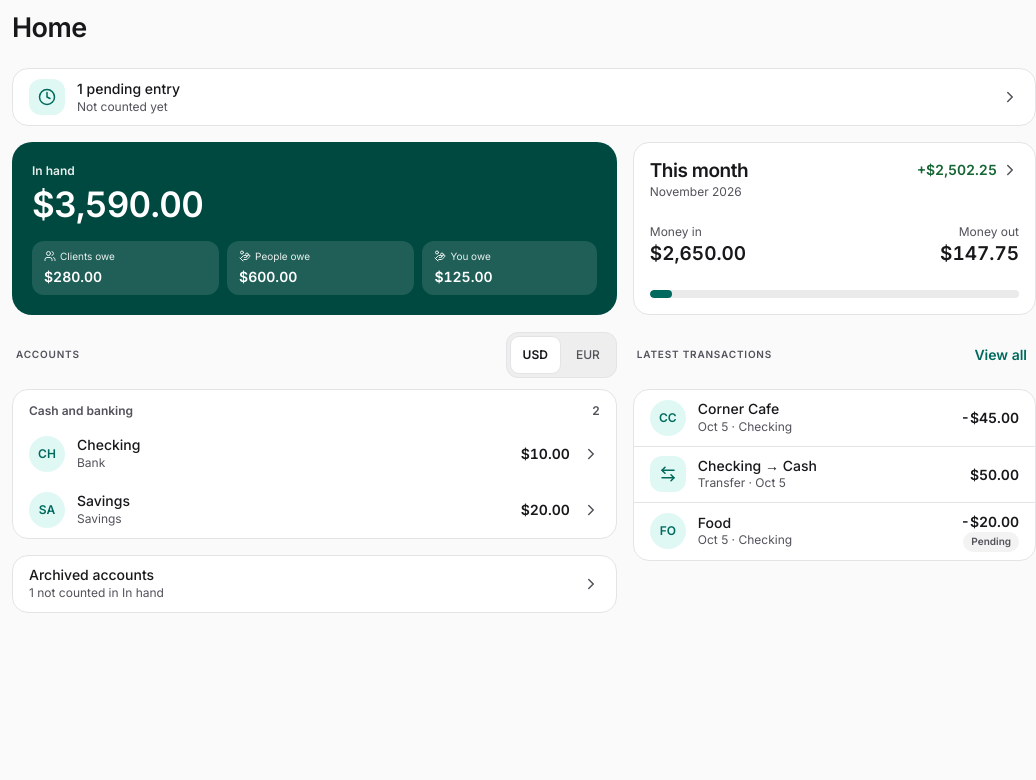
Home › the currency control › switches the list when another currency is chosen
The image size is (1036, 780).
Check: the text "Checking" is shown, box [77,436,140,453]
Click the radio button labelled "EUR": [588, 355] box [563,336,613,374]
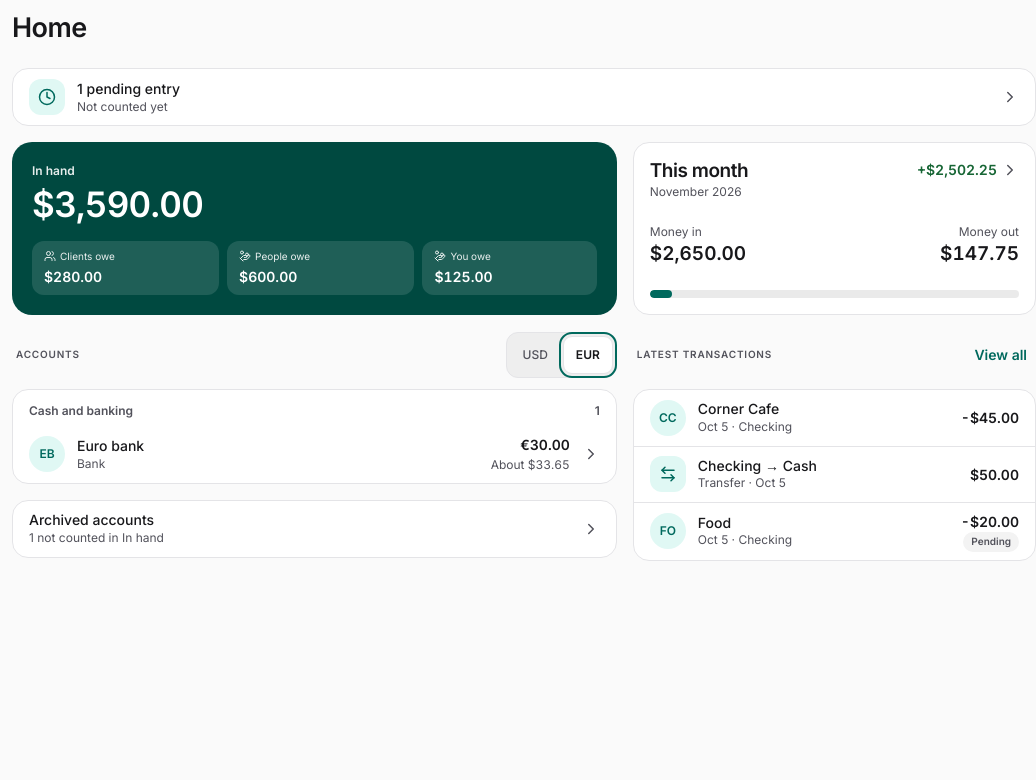
Check: the text "Euro bank" is shown, box [77,437,144,454]
